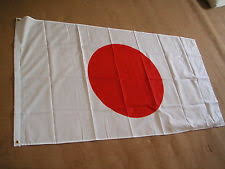Japanese Flag: (12, 14, 224, 149)
